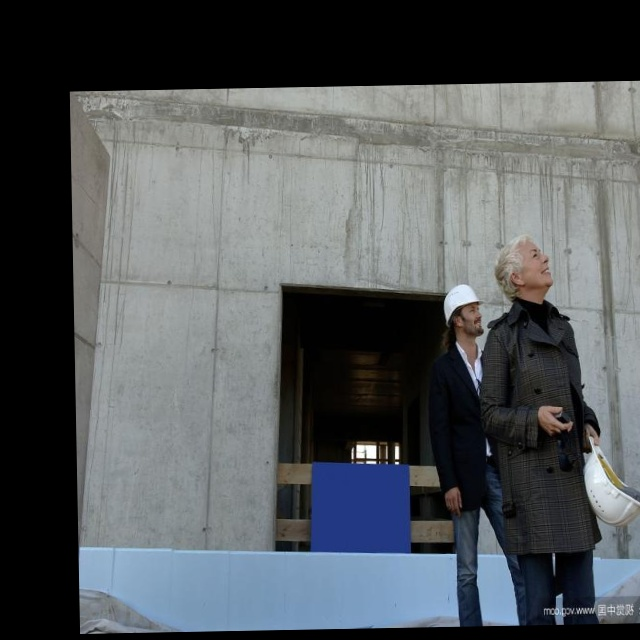Con_Casco: (583, 435, 640, 525), (441, 283, 485, 341)
Sin_Casco_Mascarrilla: (493, 231, 554, 302)
Sin_Chaleco: (490, 304, 582, 504)
